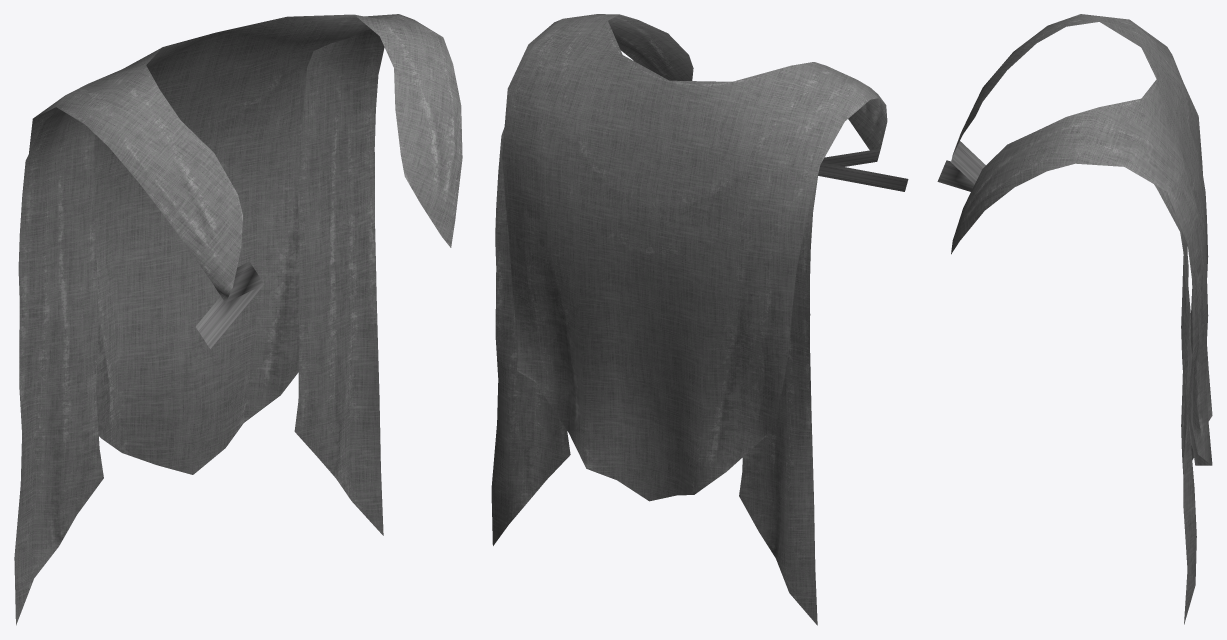
Rendered from clo_easterling_cape.fbx.
The picture shows the model from 3 angles, left to right: view 1: azimuth 30°, elevation 25°; view 2: azimuth 150°, elevation 25°; view 3: azimuth 270°, elevation 25°; orthographic projection. The views are drawn at different scales.
Parts seen in each view (by area): view 1: clo_easterling_cape; view 2: clo_easterling_cape; view 3: clo_easterling_cape.
Part boxes in pixels (x1=…): clo_easterling_cape: x1=14, y1=14, x2=462, y2=625; clo_easterling_cape: x1=491, y1=14, x2=908, y2=625; clo_easterling_cape: x1=937, y1=14, x2=1212, y2=624.
Bounding box in the file's own units: 0.4298 × 0.3312 × 0.6458.
Materials: 1 (1 with a texture image).
